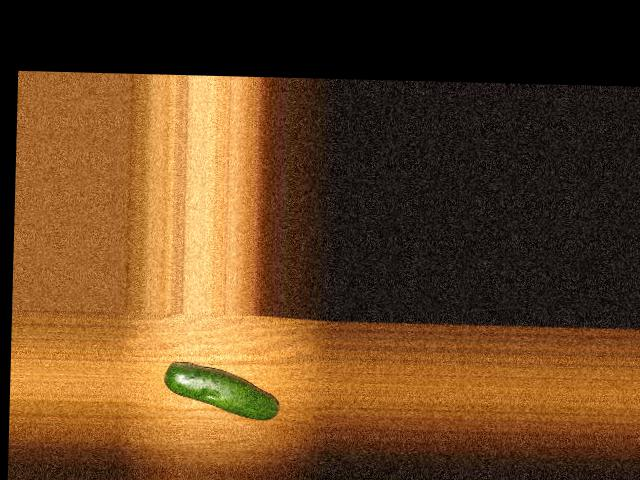cucumber: (165, 361, 281, 419)
